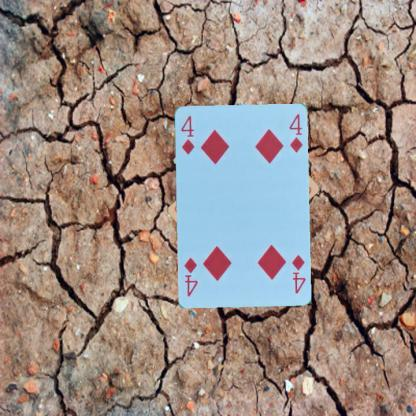4d: (289, 251, 306, 295), (178, 114, 195, 156)
